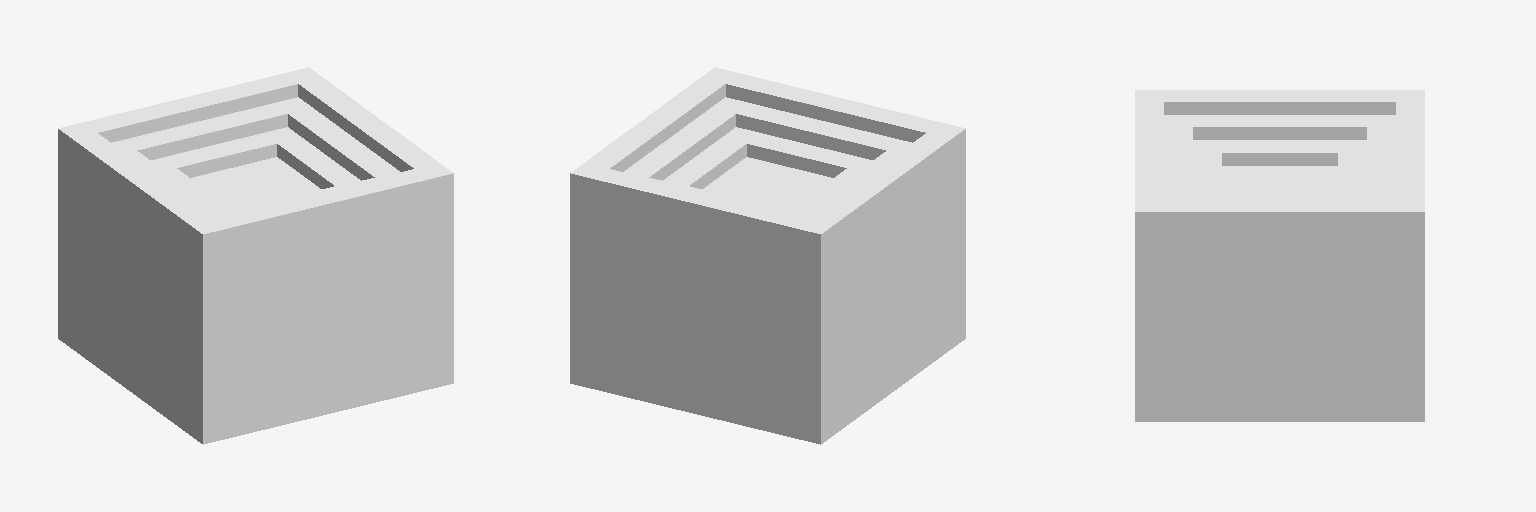
Rendered from FloatingMiddleBlock.obj.
3 views of the same model, side by side, from view 1: azimuth 30°, elevation 25°; view 2: azimuth 150°, elevation 25°; view 3: azimuth 270°, elevation 25° (orthographic).
Size of the model in its own units: 20 by 16 by 20.